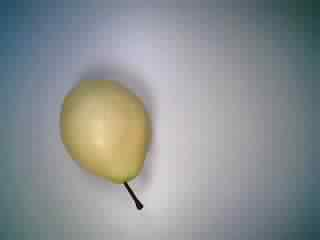pear: (49, 70, 160, 215)
